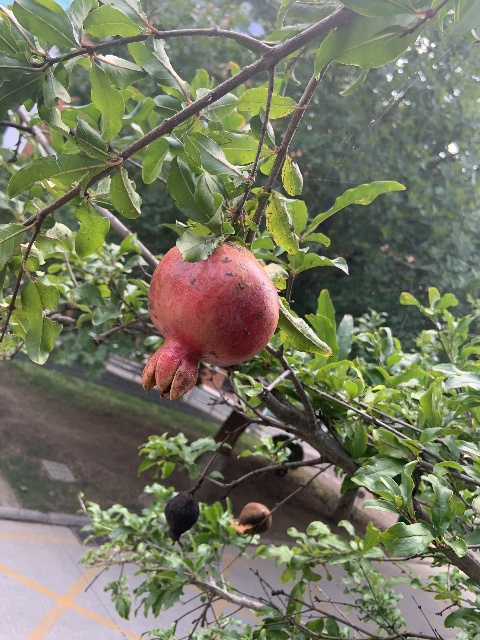ripe: (141, 242, 278, 401)
